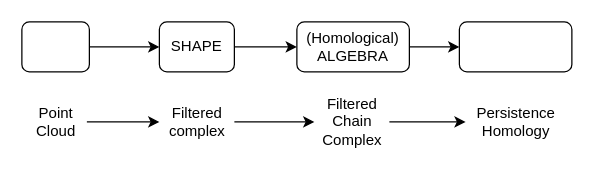
This 594x175 diagram has some shape labels left out. Here are the shapes that lost their labels. From the top down, the box of each, then its label:
(21, 21, 89, 72): DATA
(458, 21, 572, 72): TOPOLOGICAL INVARIANT
